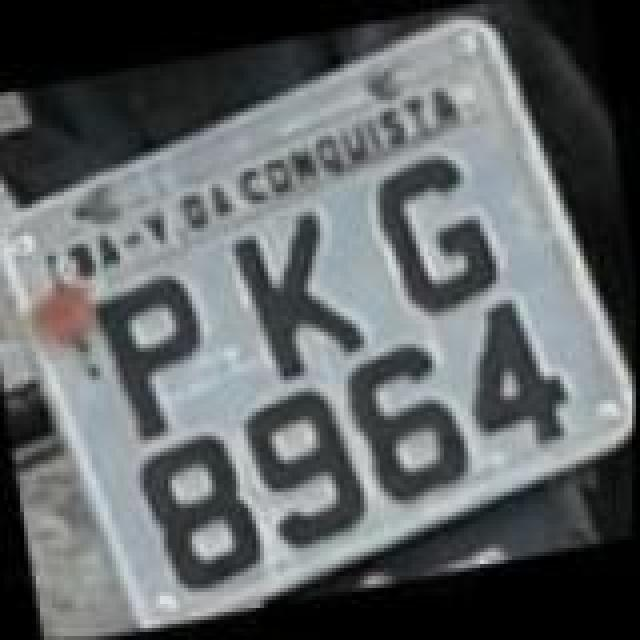4: (456, 290, 580, 458)
6: (342, 336, 482, 512)
8: (130, 422, 270, 598)
9: (242, 376, 374, 552)
G: (366, 138, 514, 322)
K: (222, 200, 378, 392)
P: (88, 264, 228, 448)
